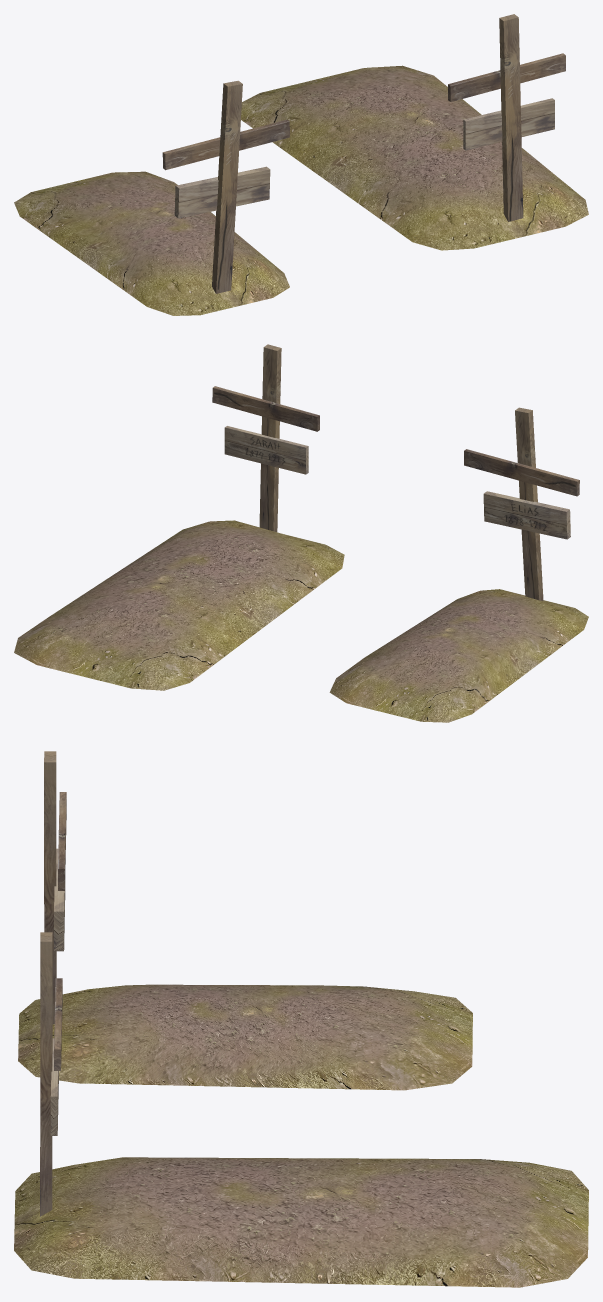
File: graves.fbx
3 renders of one model, top to bottom at view 1: azimuth 30°, elevation 25°; view 2: azimuth 150°, elevation 25°; view 3: azimuth 270°, elevation 25°, orthographic. The views are drawn at different scales.
Visible parts, largest first — view 1: tombe_sarah, tombe_elias; view 2: tombe_sarah, tombe_elias; view 3: tombe_sarah, tombe_elias.
Boxes of the visible parts, x1,y1,x2,y2 form: tombe_sarah: [241, 14, 588, 250]; tombe_elias: [14, 80, 289, 315]; tombe_sarah: [14, 344, 344, 690]; tombe_elias: [329, 407, 588, 722]; tombe_sarah: [14, 932, 588, 1287]; tombe_elias: [18, 751, 472, 1090].
Bounding box in the file's own units: 432 × 194 × 352.
